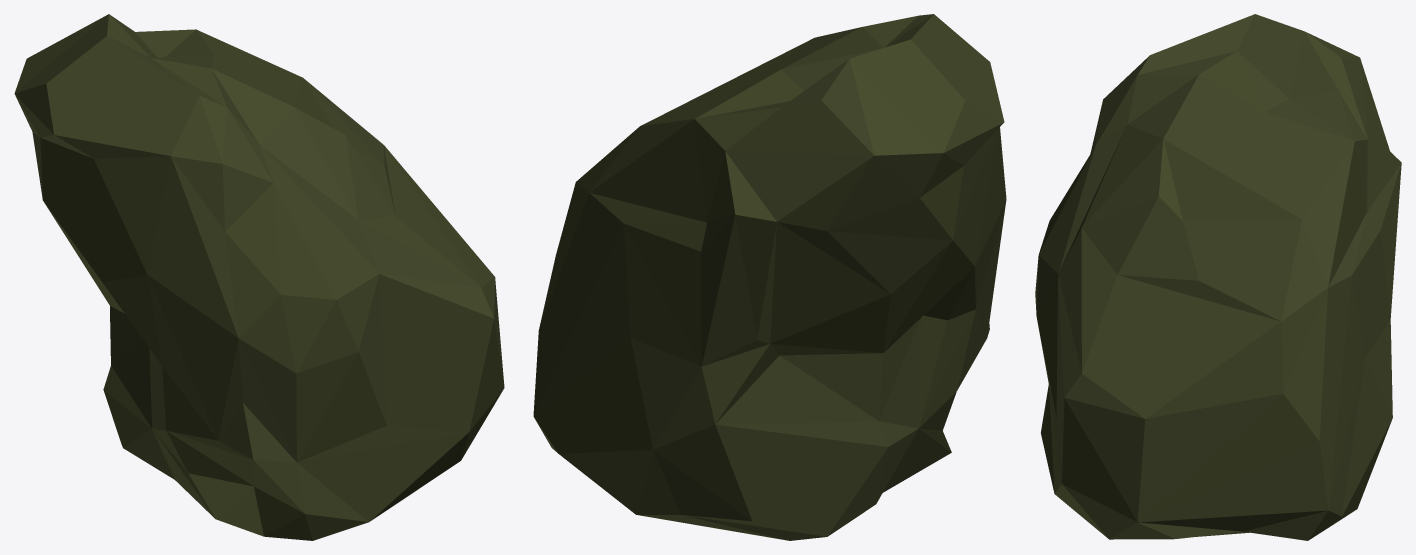
File: SM_small_rock_19.fbx
3 renders of one model, left to right at view 1: azimuth 30°, elevation 25°; view 2: azimuth 150°, elevation 25°; view 3: azimuth 270°, elevation 25°, orthographic. The views are drawn at different scales.
Visible parts, largest first — view 1: small_rock_19; view 2: small_rock_19; view 3: small_rock_19.
Boxes of the visible parts, <box> form: small_rock_19: <box>14,14,504,540</box>; small_rock_19: <box>533,14,1006,540</box>; small_rock_19: <box>1035,14,1401,540</box>.
Bounding box in the file's own units: 16.53 × 17.76 × 14.07.
